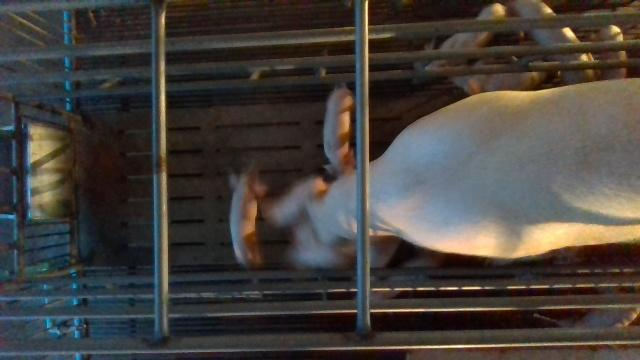piglet: (515, 0, 596, 83), (426, 3, 506, 69), (228, 165, 266, 268), (450, 58, 545, 93), (323, 85, 355, 175), (598, 25, 628, 79)
sow-stand: (271, 78, 640, 270)
